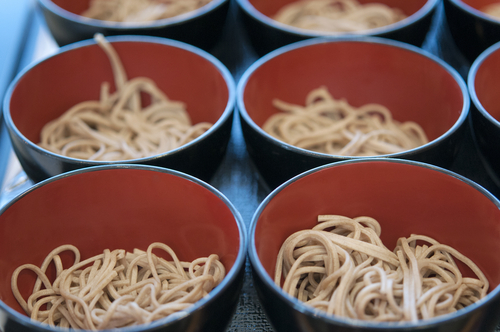Soba: (278, 211, 491, 328), (24, 238, 236, 332), (41, 83, 215, 157), (263, 87, 430, 156)
